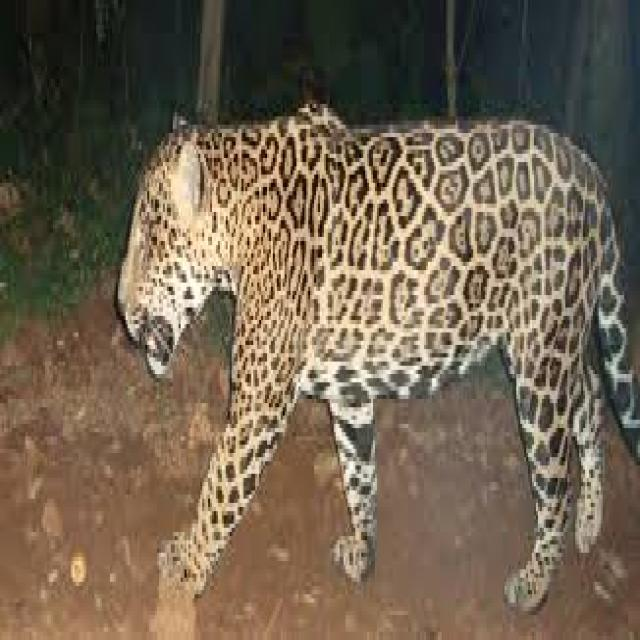Jaguar: (116, 100, 640, 611)
